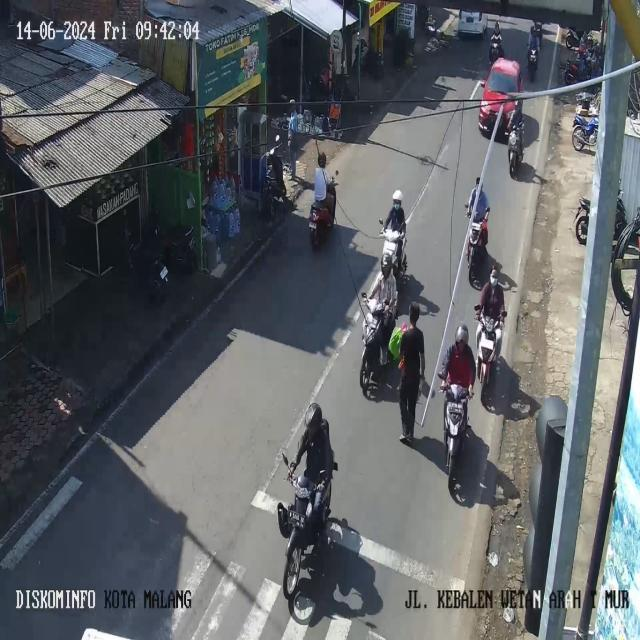Helmet: (304, 403, 321, 430), (455, 324, 469, 345), (381, 254, 391, 276), (392, 190, 402, 201)
Number Plate: (288, 509, 304, 527), (160, 266, 167, 279), (309, 222, 316, 228)
Rearview Mirror: (282, 453, 288, 466), (361, 292, 367, 299), (474, 305, 481, 311), (480, 80, 485, 87), (333, 462, 337, 470), (275, 135, 279, 143), (379, 218, 383, 224), (335, 170, 338, 176)
